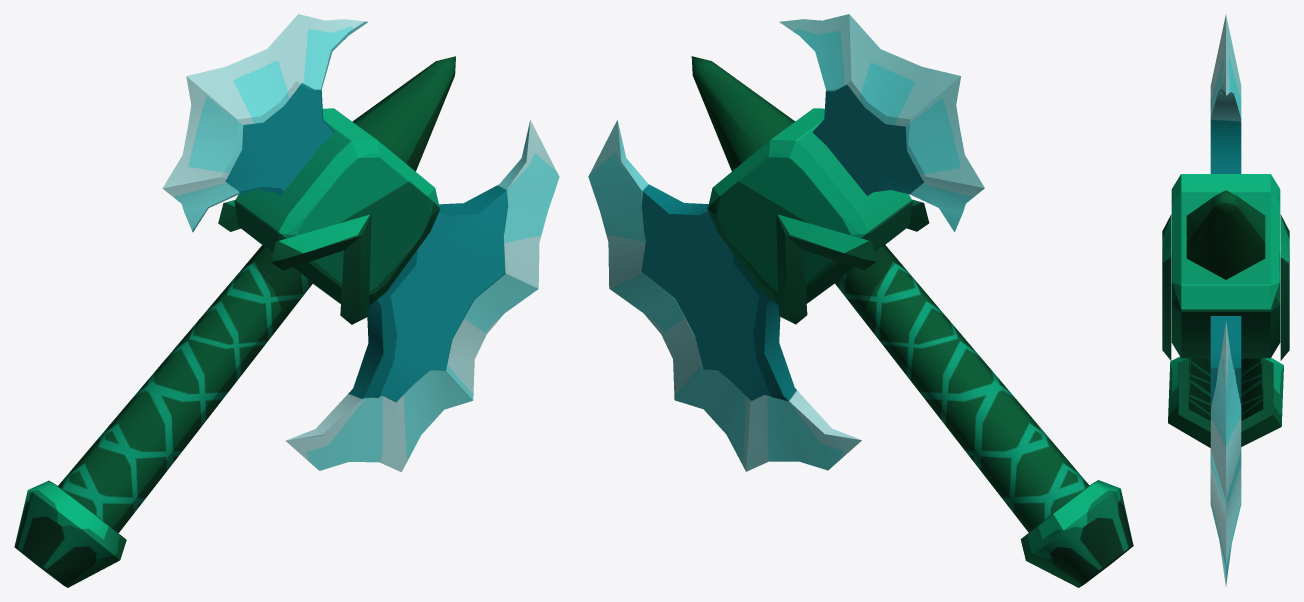
File: pirate_03.FBX
3 renders of one model, left to right at view 1: azimuth 30°, elevation 25°; view 2: azimuth 150°, elevation 25°; view 3: azimuth 270°, elevation 25°, orthographic. The views are drawn at different scales.
Visible parts, largest first — view 1: pirate_03; view 2: pirate_03; view 3: pirate_03.
Boxes of the visible parts, <box> form: pirate_03: <box>14,14,559,587</box>; pirate_03: <box>588,14,1133,587</box>; pirate_03: <box>1162,15,1289,586</box>.
Size of the model in its own units: 83.68 by 76.04 by 16.46.
